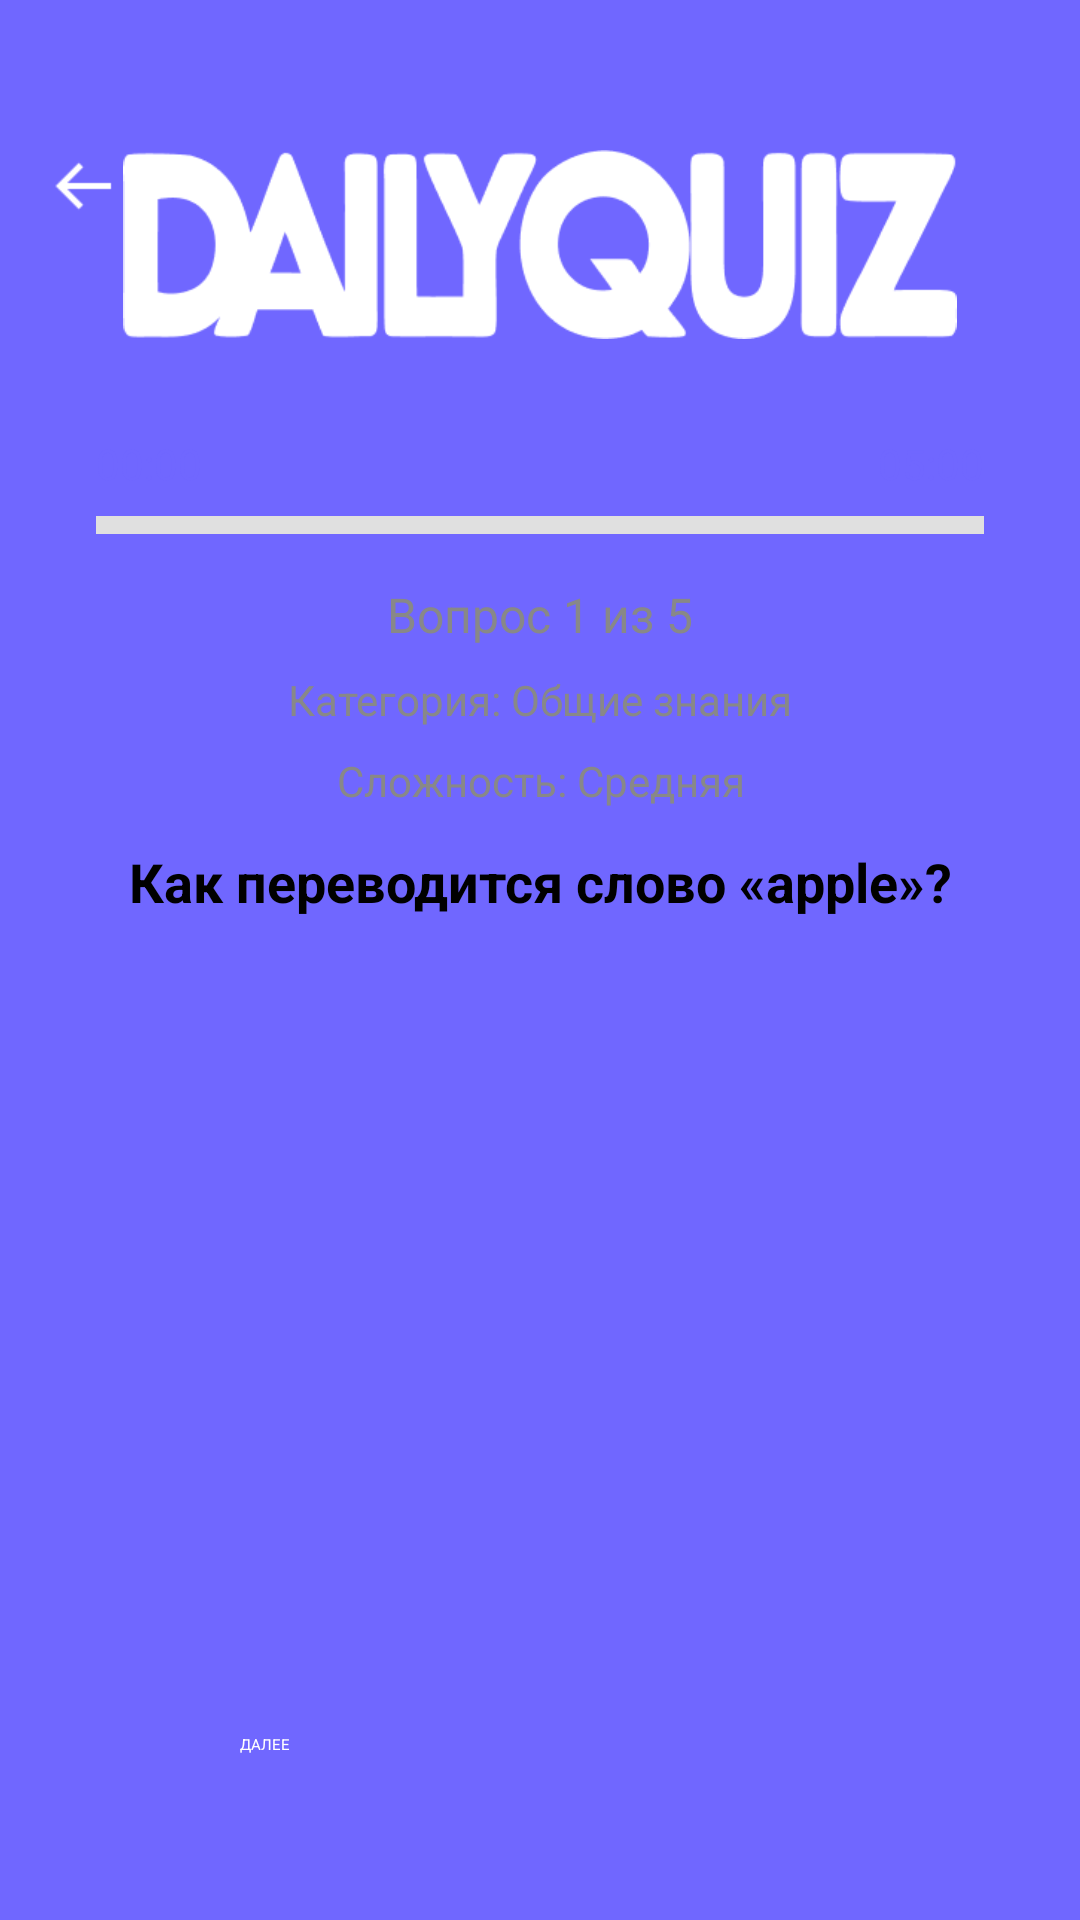

Screen size 1080px x 1920px. Icon name, then its box in pixels as bbox=(x1, y1, x2, y2):
Назад: bbox=(55, 163, 112, 209)
